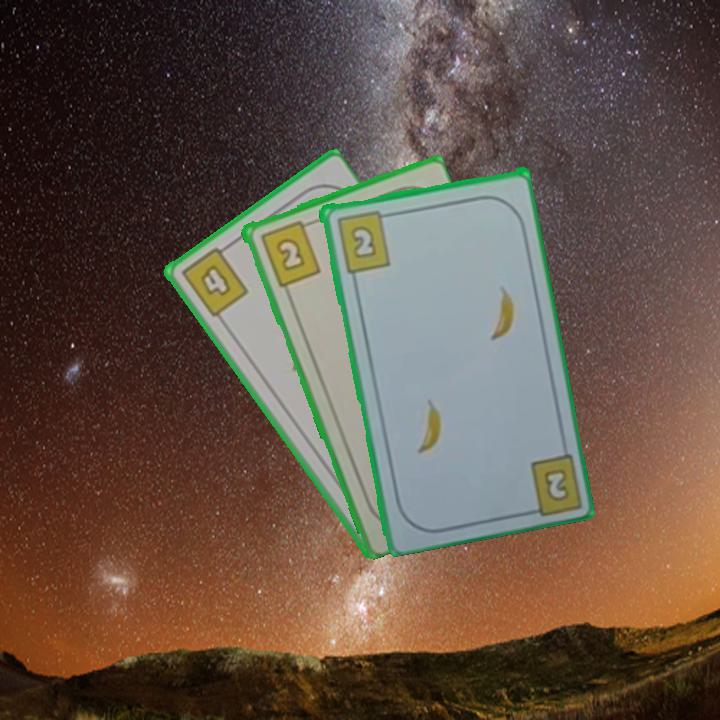2b: (256, 216, 323, 290), (332, 207, 394, 275), (540, 464, 572, 504)
4b: (177, 240, 252, 320)
